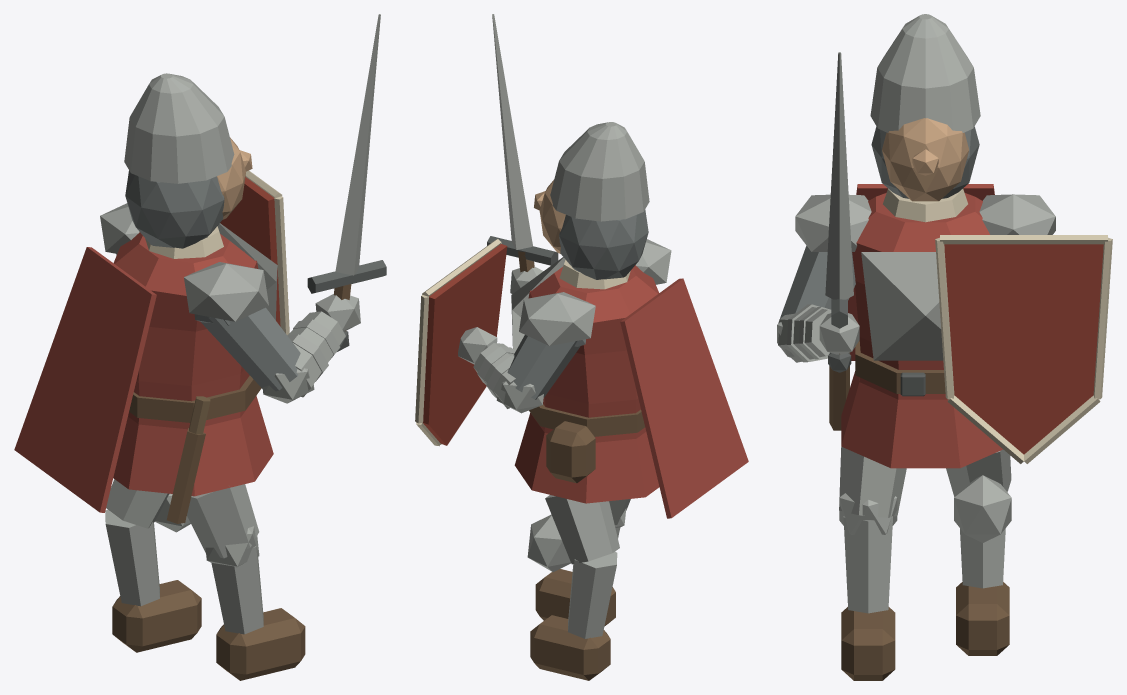
File: commander_noble.glb
The picture shows the model from 3 angles, left to right: view 1: azimuth 30°, elevation 25°; view 2: azimuth 150°, elevation 25°; view 3: azimuth 270°, elevation 25°; orthographic projection. The views are drawn at different scales.
Visible parts, largest first — view 1: commander_noble_team_cloth, commander_noble_steel, commander_noble_leather, commander_noble_mail, commander_noble_team_paint, commander_noble_linen, commander_noble_iron, commander_noble_skin, commander_noble_oak_dark; view 2: commander_noble_team_cloth, commander_noble_steel, commander_noble_leather, commander_noble_team_paint, commander_noble_mail, commander_noble_linen, commander_noble_skin, commander_noble_iron; view 3: commander_noble_steel, commander_noble_team_paint, commander_noble_team_cloth, commander_noble_leather, commander_noble_linen, commander_noble_skin, commander_noble_mail, commander_noble_iron.
Part boxes in pixels (x1,y1,x2,y2): commander_noble_team_cloth: (14, 232, 273, 512); commander_noble_steel: (100, 14, 380, 634); commander_noble_leather: (112, 284, 351, 680); commander_noble_mail: (116, 170, 300, 391); commander_noble_team_paint: (220, 177, 280, 326); commander_noble_linen: (145, 170, 289, 335); commander_noble_iron: (307, 260, 386, 351); commander_noble_skin: (217, 137, 252, 219); commander_noble_oak_dark: (189, 396, 210, 434); commander_noble_team_cloth: (514, 265, 748, 518); commander_noble_steel: (458, 14, 671, 638); commander_noble_leather: (518, 251, 644, 680); commander_noble_team_paint: (423, 244, 507, 445); commander_noble_mail: (507, 209, 648, 399); commander_noble_linen: (415, 239, 630, 446); commander_noble_skin: (534, 179, 565, 253); commander_noble_iron: (487, 236, 558, 265); commander_noble_steel: (777, 14, 1055, 613); commander_noble_team_paint: (944, 244, 1103, 454); commander_noble_team_cloth: (841, 184, 1002, 468); commander_noble_leather: (829, 340, 1009, 680); commander_noble_linen: (883, 188, 1112, 463); commander_noble_skin: (882, 118, 968, 201); commander_noble_mail: (778, 126, 979, 322); commander_noble_iron: (828, 299, 925, 396).
Size of the model in its own units: 0.96 by 2.06 by 0.9382.
